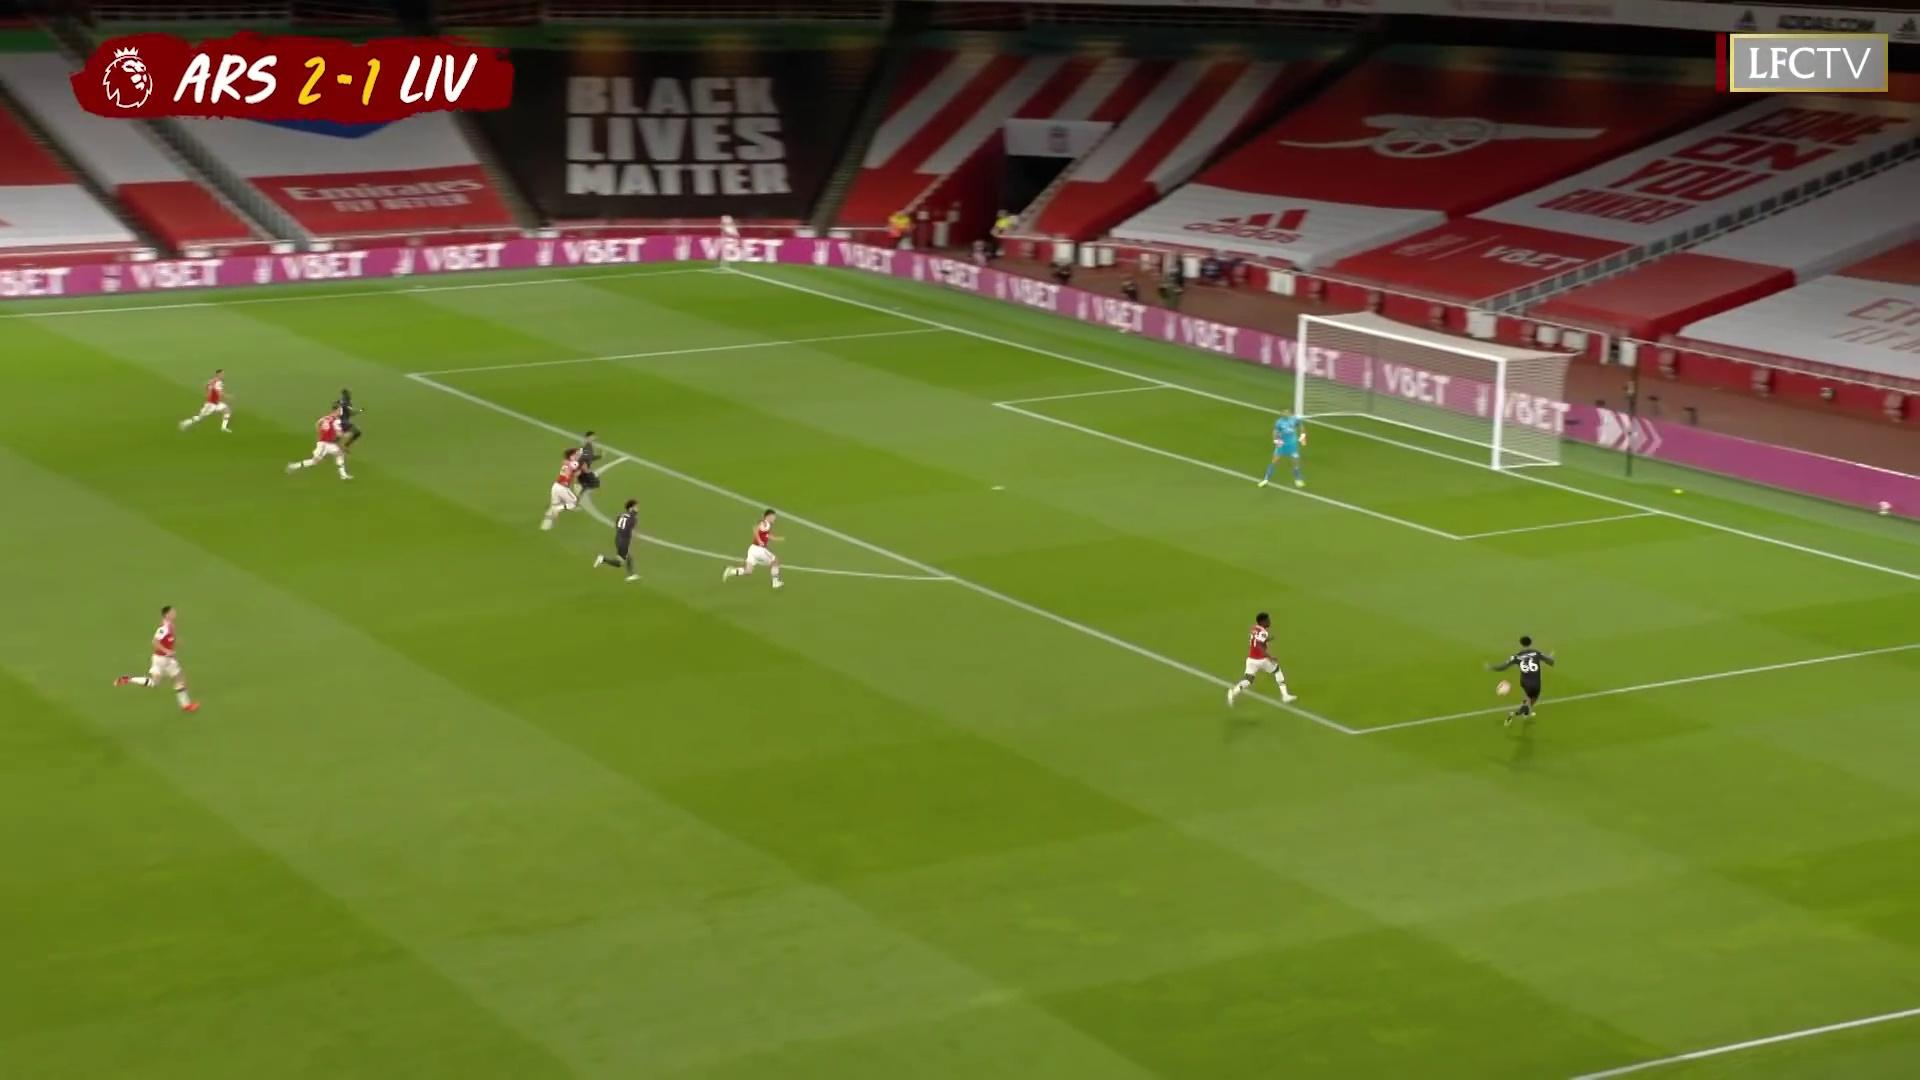ball: (1495, 678, 1512, 699)
